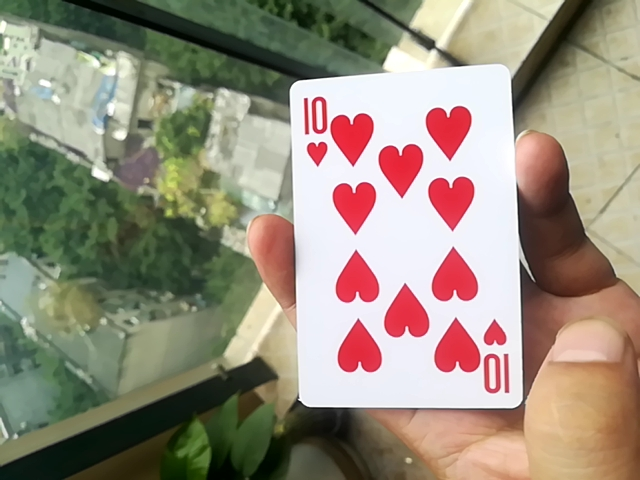hx 10: (283, 61, 522, 412)
